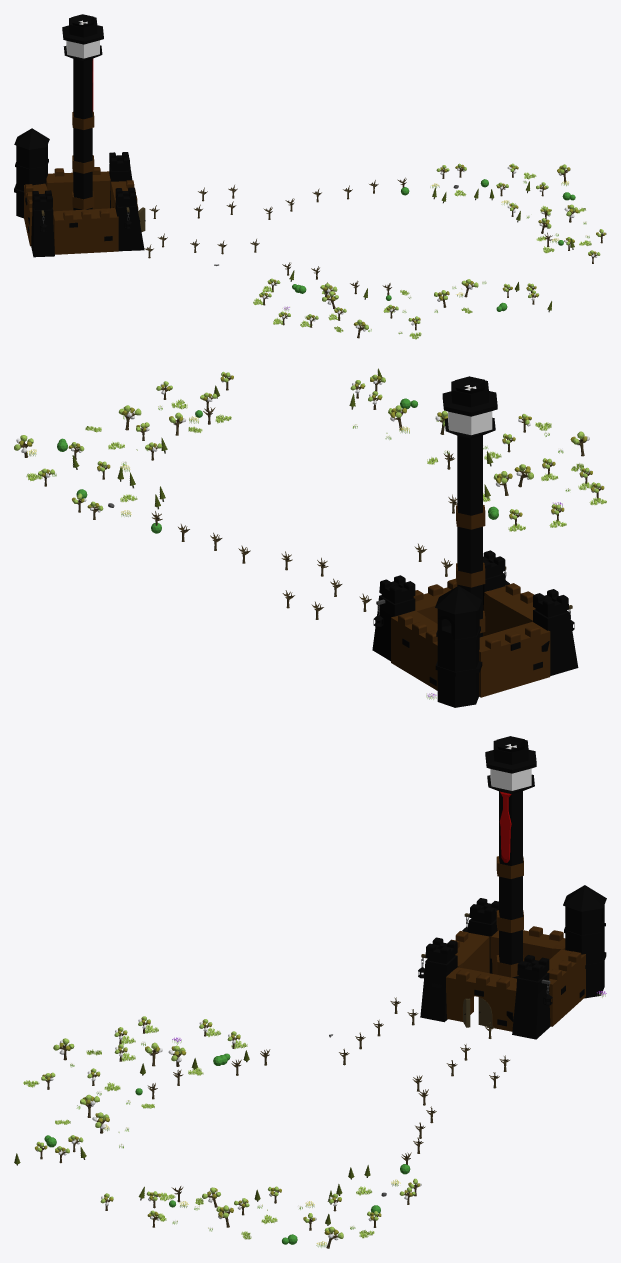
The model's file is Castillo.fbx.
3 renders of one model, top to bottom at view 1: azimuth 30°, elevation 25°; view 2: azimuth 150°, elevation 25°; view 3: azimuth 270°, elevation 25°, orthographic. The views are drawn at different scales.
Visible parts, largest first — view 1: Paredes, torre.001, torre.002; view 2: Paredes, torre.001, torre.002; view 3: Paredes, torre.001, torre.002.
Boxes of the visible parts, bbox=[...] form: Paredes: bbox=[14, 128, 145, 257]; torre.001: bbox=[62, 14, 103, 210]; torre.002: bbox=[72, 111, 94, 209]; Paredes: bbox=[372, 550, 578, 707]; torre.001: bbox=[442, 376, 497, 637]; torre.002: bbox=[456, 505, 485, 633]; Paredes: bbox=[418, 885, 606, 1039]; torre.001: bbox=[485, 736, 536, 978]; torre.002: bbox=[496, 856, 523, 977].
Size of the model in its own units: 7178 by 3032 by 6204.
